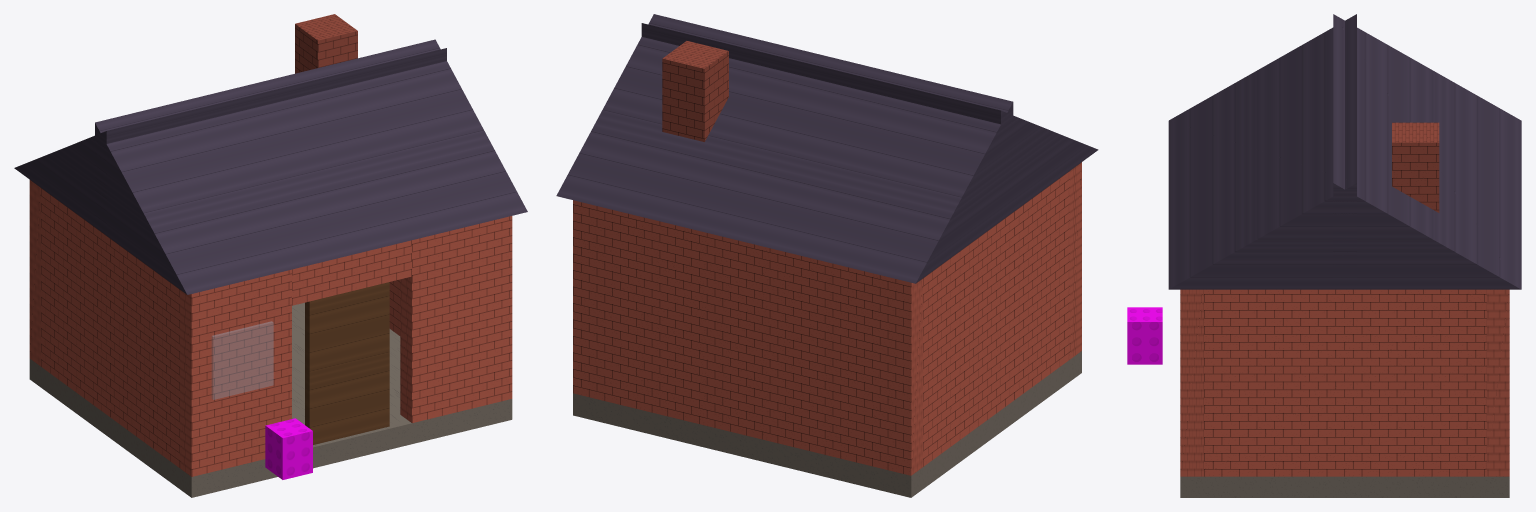
Rendered from casa-teste-rbxm.glb.
3 views of the same model, side by side, from view 1: azimuth 30°, elevation 25°; view 2: azimuth 150°, elevation 25°; view 3: azimuth 270°, elevation 25° (orthographic). The views are drawn at different scales.
Parts seen in each view (by area): view 1: WoodPlanks, Brick (×2), Concrete, Wood, Glass, Plastic; view 2: Brick (×2), WoodPlanks, Concrete; view 3: WoodPlanks, Brick (×2), Concrete, Plastic.
Boxes of the visible parts, bbox=[...] form: WoodPlanks: bbox=[14, 39, 527, 294]; Brick (×2): bbox=[29, 14, 512, 476]; Concrete: bbox=[29, 302, 512, 497]; Wood: bbox=[305, 282, 389, 444]; Glass: bbox=[212, 321, 273, 399]; Plastic: bbox=[265, 418, 312, 479]; Brick (×2): bbox=[573, 41, 1081, 475]; WoodPlanks: bbox=[556, 14, 1098, 283]; Concrete: bbox=[573, 351, 1081, 497]; WoodPlanks: bbox=[1168, 14, 1521, 289]; Brick (×2): bbox=[1180, 122, 1509, 476]; Concrete: bbox=[1180, 476, 1509, 497]; Plastic: bbox=[1127, 307, 1162, 364].
Size of the model in its own units: 4.76 by 4.34 by 4.69.
Materials: 7 (6 with a texture image).
